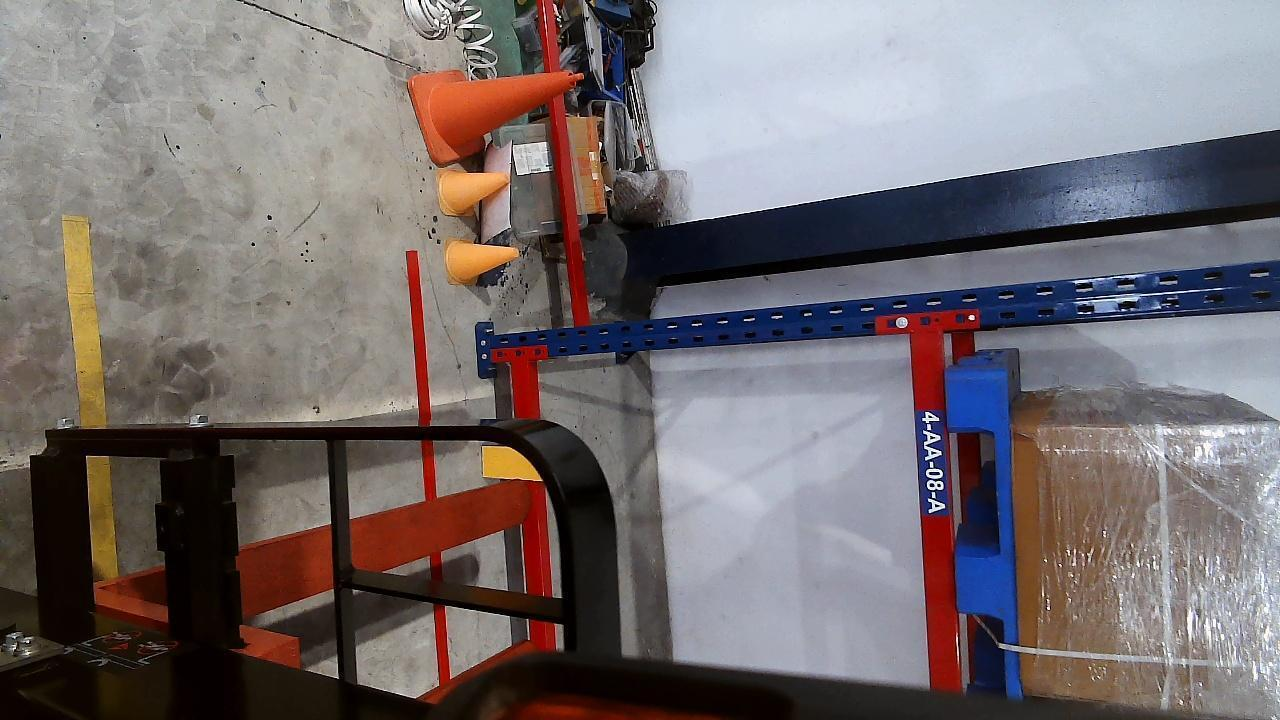red_line: (404, 250, 442, 496)
yellow_line: (64, 215, 122, 575)
